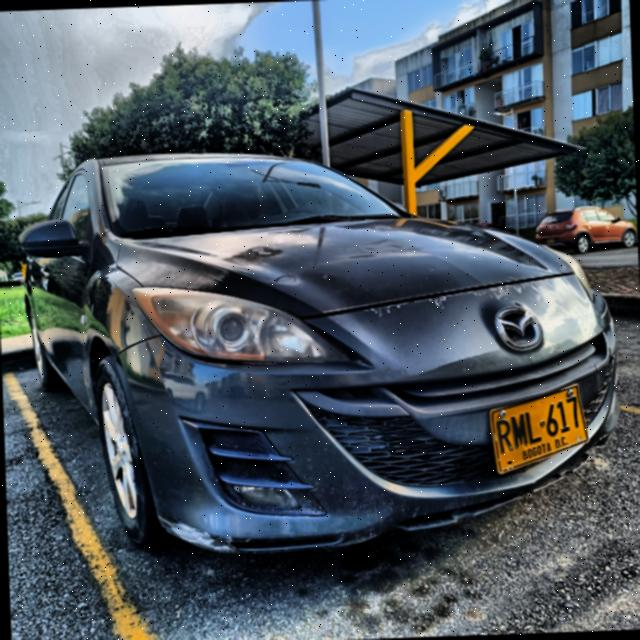plate: (490, 384, 588, 472)
